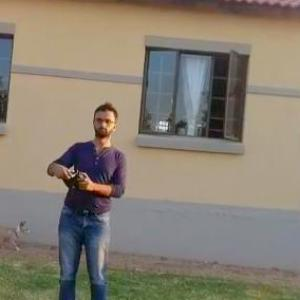follow: (40, 92, 132, 299)
null: (0, 209, 40, 254)
